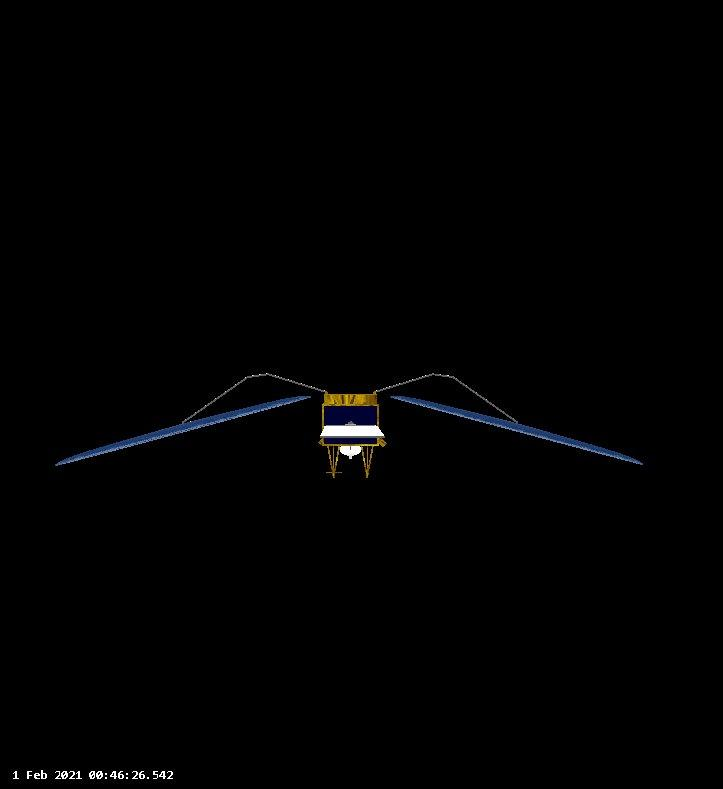antenna: (333, 440, 365, 463)
body: (317, 387, 389, 462)
solar: (383, 379, 652, 472), (50, 388, 312, 471)
